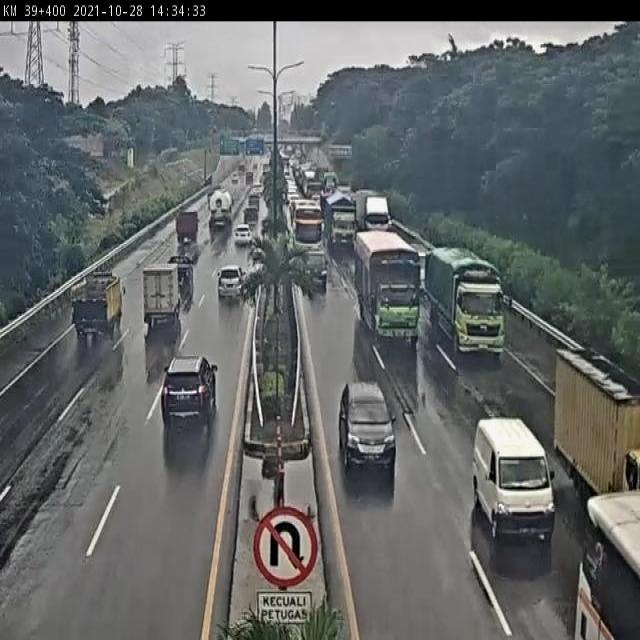Bus: (573, 490, 639, 640), (289, 198, 325, 249)
Car: (338, 382, 397, 472), (161, 356, 218, 424), (295, 247, 325, 294), (217, 264, 245, 300), (233, 224, 253, 246), (242, 207, 258, 223), (248, 192, 260, 208)
Truck: (551, 341, 640, 499), (424, 243, 515, 359), (352, 228, 421, 344), (69, 270, 126, 339), (140, 263, 183, 327), (324, 190, 357, 249), (355, 188, 390, 230), (208, 188, 235, 227), (175, 211, 200, 242)
Van: (474, 417, 556, 548)
